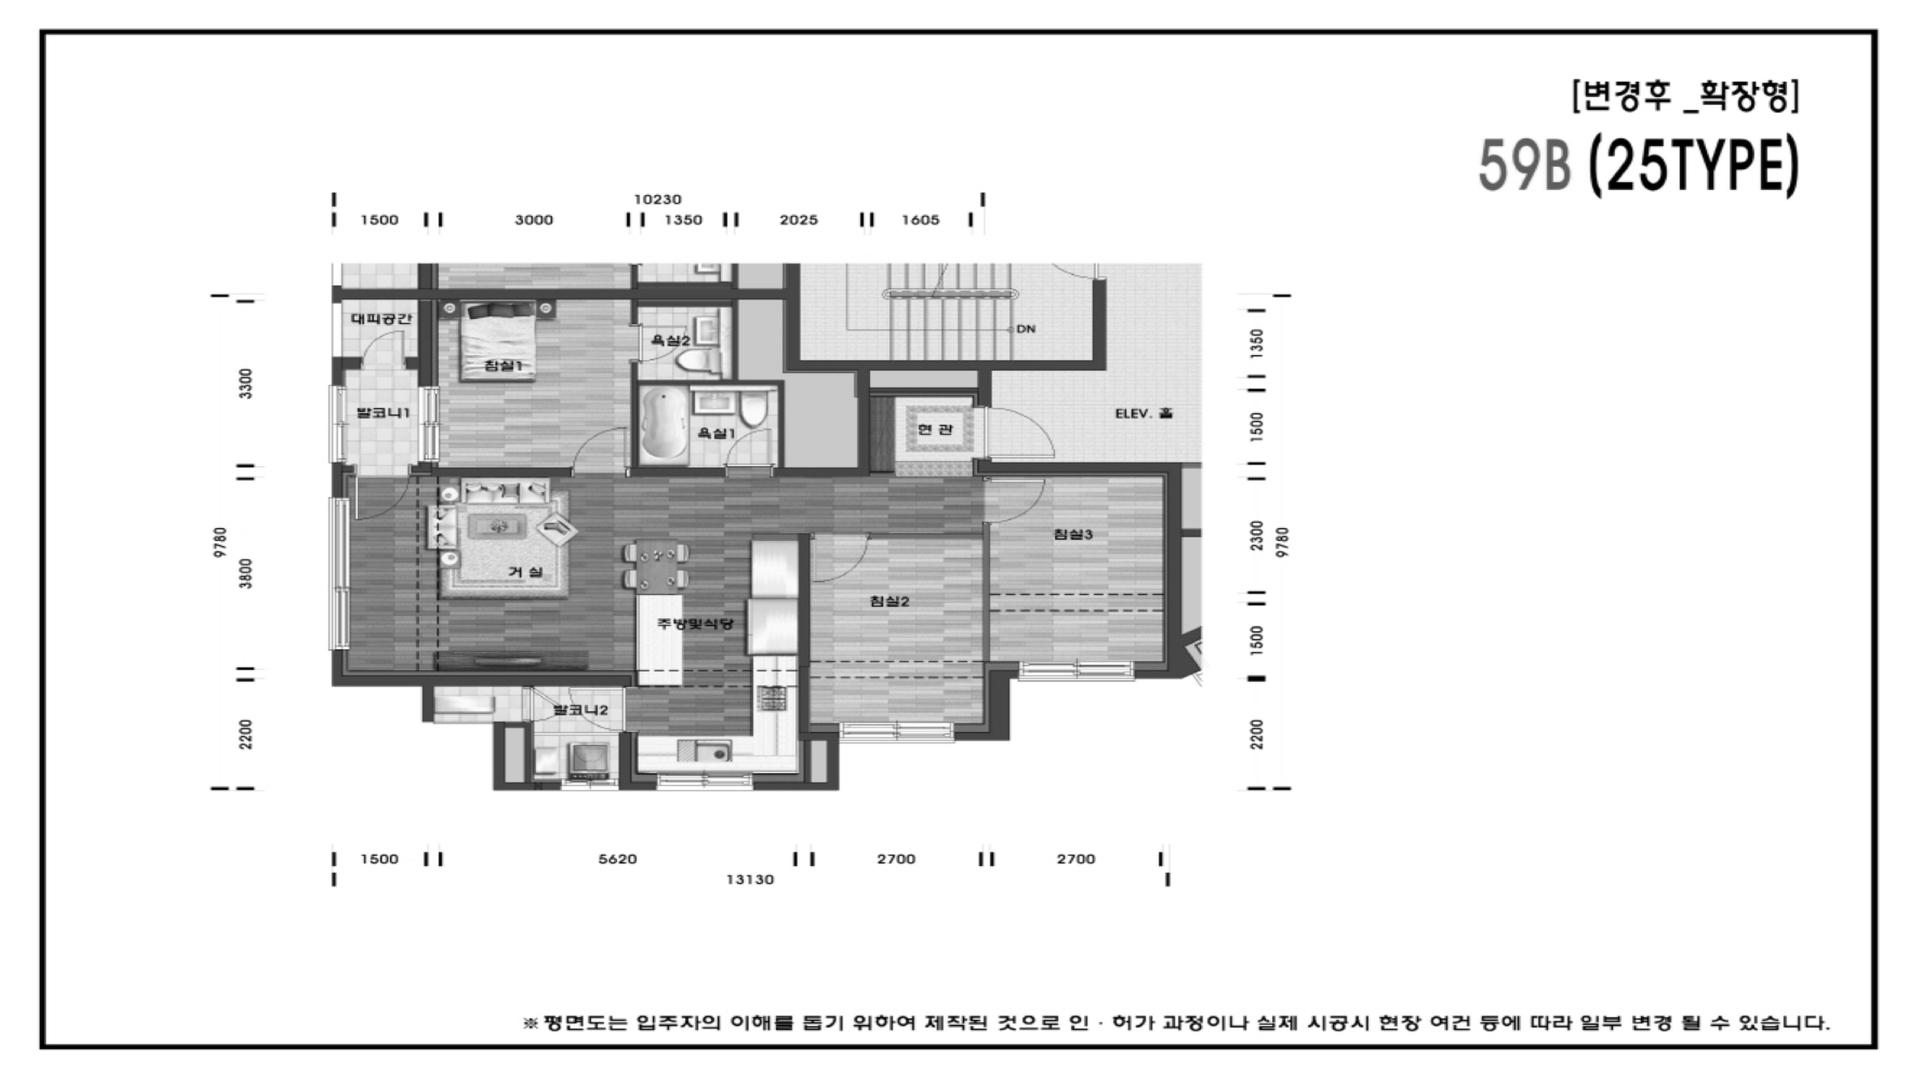door: (984, 408, 1055, 460), (354, 465, 412, 521), (570, 426, 631, 478), (982, 476, 1045, 524), (811, 533, 870, 583), (568, 687, 630, 732), (725, 428, 773, 478), (630, 323, 690, 362), (361, 330, 406, 371), (521, 687, 565, 722)
wall: (332, 288, 992, 477), (977, 460, 1183, 680), (630, 301, 784, 478), (332, 650, 632, 722), (870, 524, 991, 662), (752, 533, 811, 731), (753, 732, 839, 791), (493, 721, 561, 791), (954, 670, 1018, 741), (412, 462, 570, 478), (405, 299, 433, 386), (618, 732, 656, 791), (505, 721, 534, 783), (870, 387, 977, 393), (331, 463, 342, 497), (798, 741, 806, 782), (331, 357, 342, 386), (342, 357, 361, 371), (342, 465, 354, 478)
window: (329, 497, 350, 651), (839, 722, 955, 744), (1018, 661, 1136, 682), (656, 770, 753, 791), (418, 386, 440, 462), (329, 386, 347, 463), (560, 778, 619, 791), (331, 303, 342, 357)
